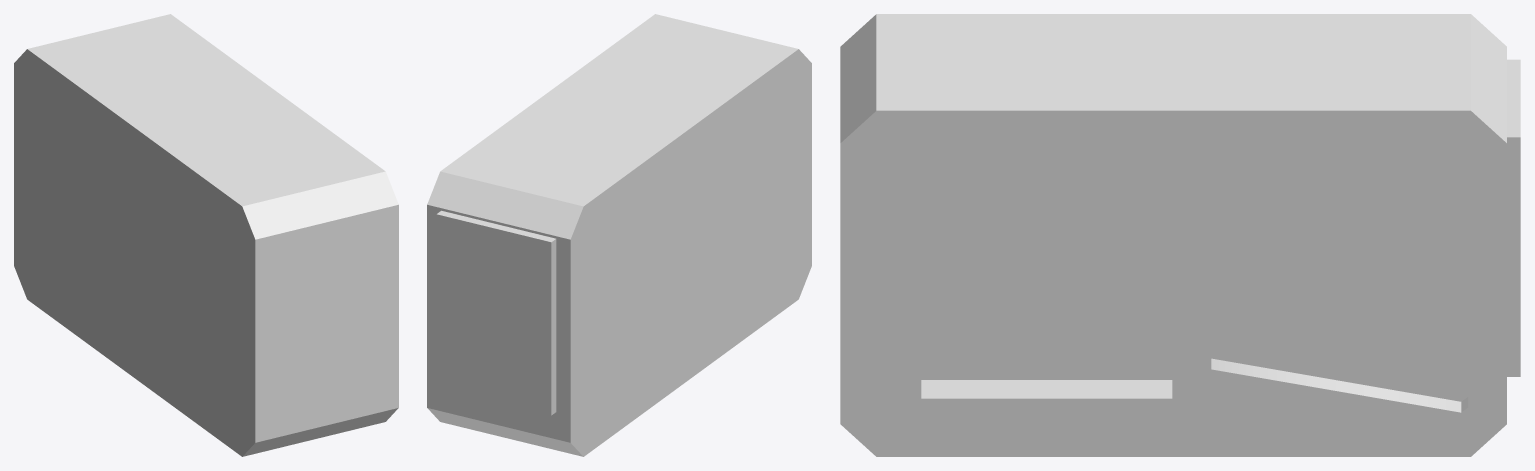
File: air_conditioner_b.fbx
3 views of the same model, side by side, from view 1: azimuth 30°, elevation 25°; view 2: azimuth 150°, elevation 25°; view 3: azimuth 270°, elevation 25° (orthographic). The views are drawn at different scales.
Visible parts, largest first — view 1: air_conditioner_b; view 2: air_conditioner_b; view 3: air_conditioner_b.
Boxes of the visible parts, x1=… form: air_conditioner_b: x1=14, y1=14, x2=398, y2=456; air_conditioner_b: x1=427, y1=14, x2=811, y2=456; air_conditioner_b: x1=840, y1=14, x2=1520, y2=456.
Size of the model in its own units: 0.6591 by 1.1 by 1.96.
